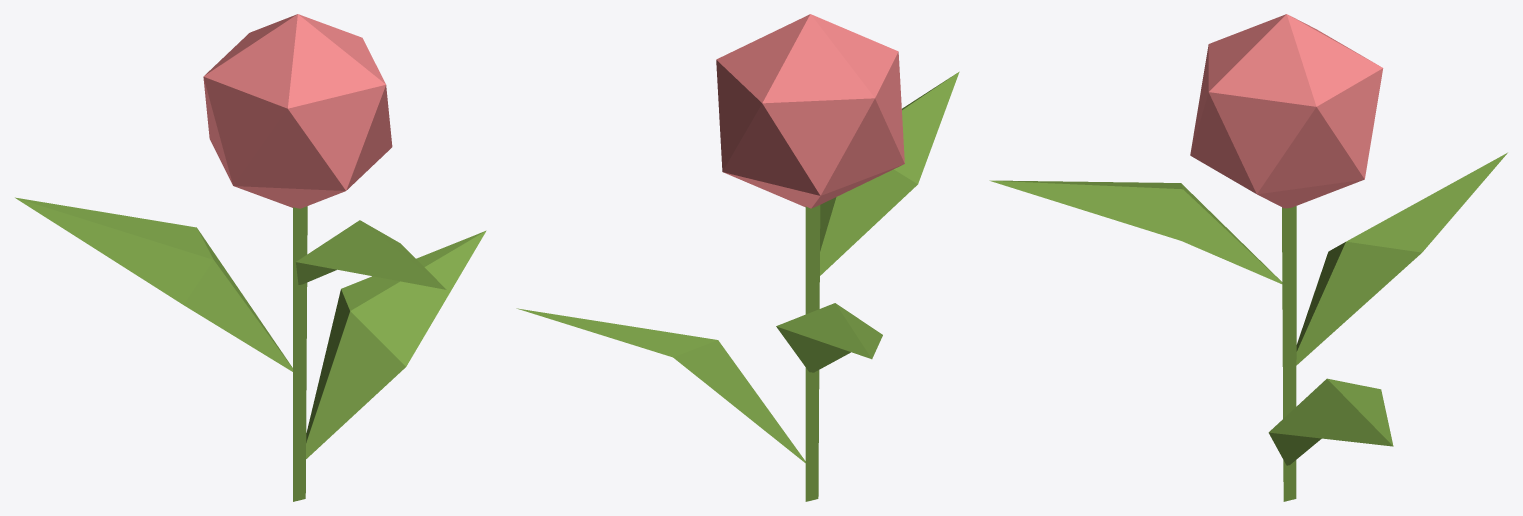
Rendered from TB_Env_Flower_E.FBX.
3 views of the same model, side by side, from view 1: azimuth 30°, elevation 25°; view 2: azimuth 150°, elevation 25°; view 3: azimuth 270°, elevation 25° (orthographic).
Parts seen in each view (by area): view 1: TB_Env_Flower_E; view 2: TB_Env_Flower_E; view 3: TB_Env_Flower_E.
Boxes of the visible parts, <box> form: TB_Env_Flower_E: <box>15,14,486,501</box>; TB_Env_Flower_E: <box>516,14,959,501</box>; TB_Env_Flower_E: <box>989,14,1507,501</box>.
Bounding box in the file's own units: 0.7574 × 0.8464 × 0.8227.
